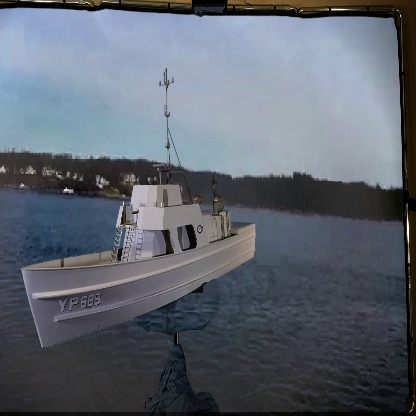YP689: (24, 69, 256, 351)
